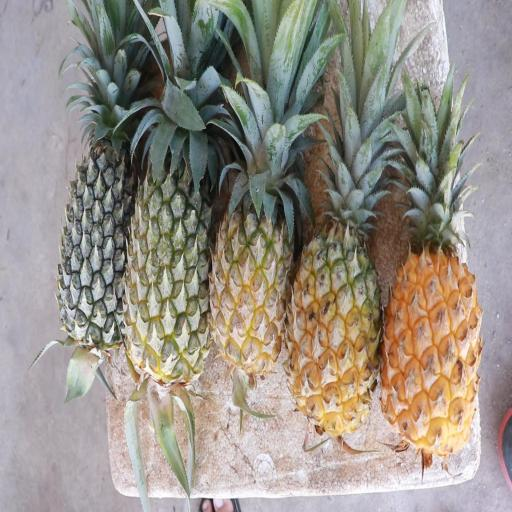------------------------------: (126, 105, 210, 376)
Pineapple - v8 v1: (380, 192, 481, 460), (294, 154, 384, 430), (210, 136, 292, 368)
